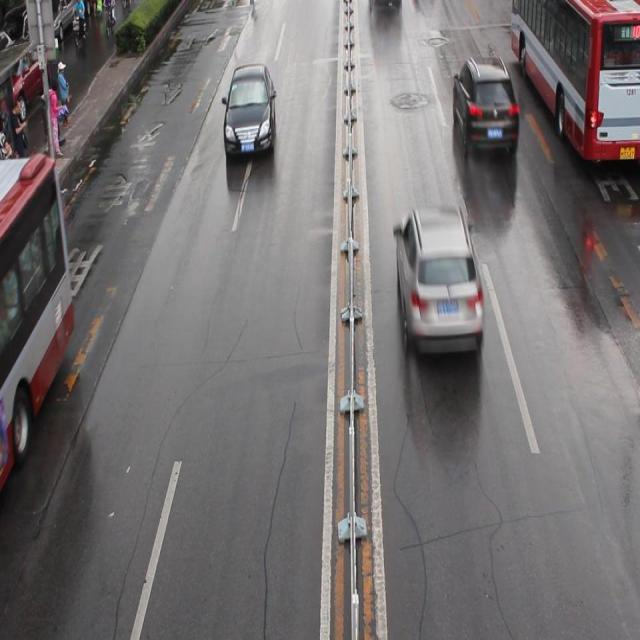car: (394, 208, 484, 356), (451, 55, 518, 152), (223, 66, 275, 156), (0, 42, 54, 116)
van: (1, 154, 73, 511), (510, 1, 640, 159)
